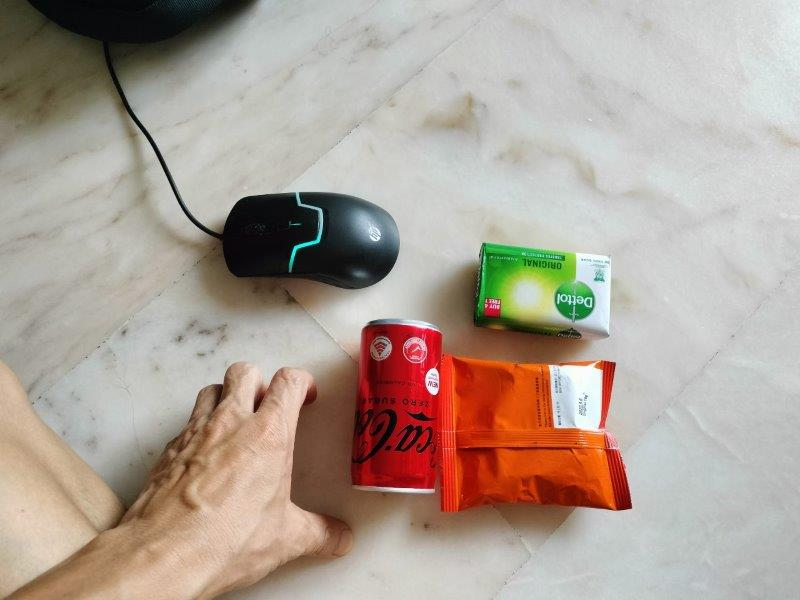Coke: (352, 316, 445, 493)
Dettol: (474, 241, 613, 340)
Jagabee: (440, 355, 634, 515)
